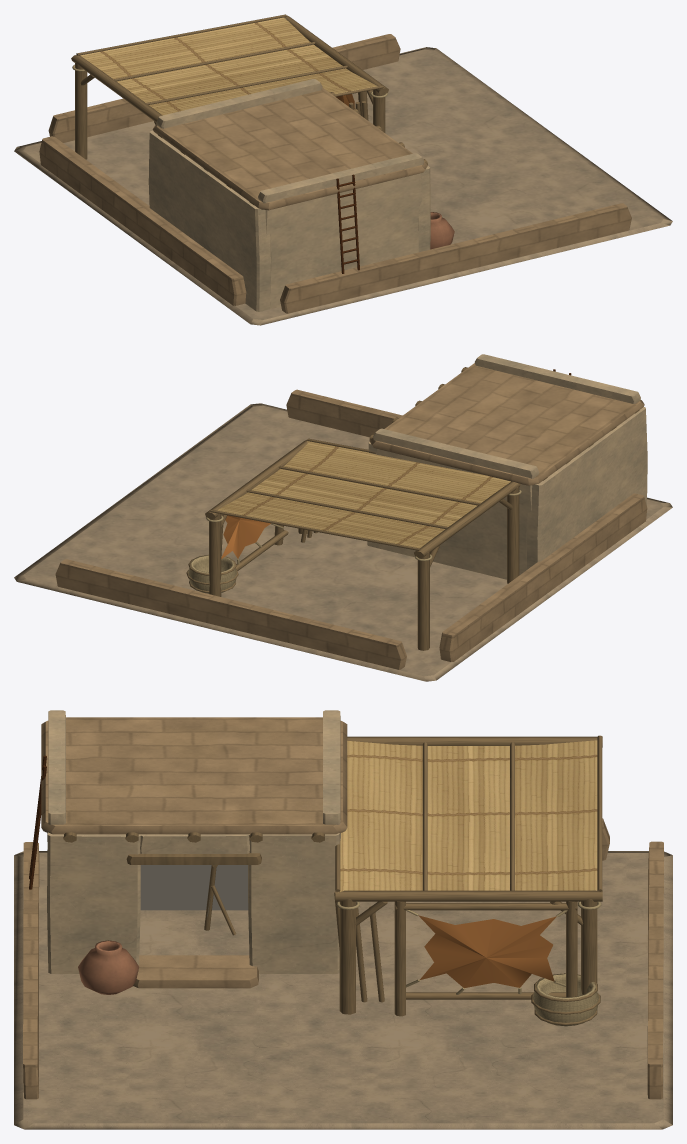
The model's file is hunting.glb.
3 views of the same model, one above another, from view 1: azimuth 30°, elevation 25°; view 2: azimuth 150°, elevation 25°; view 3: azimuth 270°, elevation 25° (orthographic). The views are drawn at different scales.
Visible parts, largest first — view 1: original-hunting-game-raw-brick-facing, original-hunting-alluvial-earth, original-hunting-warm-clay-plaster, original-hunting-laid-reed-thatch, original-hunting-worn-timber, roof-access-hunting, original-hunting-fired-pottery; view 2: original-hunting-alluvial-earth, original-hunting-game-raw-brick-facing, original-hunting-warm-clay-plaster, original-hunting-laid-reed-thatch, original-hunting-worn-timber, original-hunting-reed-mat, original-hunting-courtyard-tanned-hide; view 3: original-hunting-alluvial-earth, original-hunting-game-raw-brick-facing, original-hunting-laid-reed-thatch, original-hunting-warm-clay-plaster, original-hunting-worn-timber, original-hunting-courtyard-tanned-hide, original-hunting-game-door-shadow, original-hunting-fired-pottery, original-hunting-reed-mat, roof-access-hunting.
Part boxes in pixels (x1,y1,x2,y2): original-hunting-game-raw-brick-facing: (39, 34, 631, 313); original-hunting-alluvial-earth: (14, 47, 672, 325); original-hunting-warm-clay-plaster: (148, 79, 430, 311); original-hunting-laid-reed-thatch: (80, 17, 377, 115); original-hunting-worn-timber: (71, 14, 427, 205); roof-access-hunting: (336, 174, 359, 273); original-hunting-fired-pottery: (430, 212, 454, 249); original-hunting-alluvial-earth: (14, 403, 672, 681); original-hunting-game-raw-brick-facing: (55, 363, 647, 669); original-hunting-warm-clay-plaster: (367, 354, 647, 579); original-hunting-laid-reed-thatch: (217, 441, 510, 548); original-hunting-worn-timber: (186, 367, 639, 650); original-hunting-reed-mat: (188, 490, 521, 593); original-hunting-courtyard-tanned-hide: (221, 515, 270, 558); original-hunting-alluvial-earth: (14, 851, 672, 1129); original-hunting-game-raw-brick-facing: (23, 717, 663, 1099); original-hunting-laid-reed-thatch: (338, 740, 597, 892); original-hunting-warm-clay-plaster: (47, 710, 340, 973); original-hunting-worn-timber: (63, 735, 602, 1025); original-hunting-courtyard-tanned-hide: (418, 915, 556, 988); original-hunting-game-door-shadow: (140, 865, 248, 910); original-hunting-fired-pottery: (78, 940, 139, 994); original-hunting-reed-mat: (336, 901, 601, 1026); roof-access-hunting: (29, 755, 46, 889).
Bounding box in the file's own units: 10.77 × 2.88 × 10.77.
11 materials, 9 textured.
